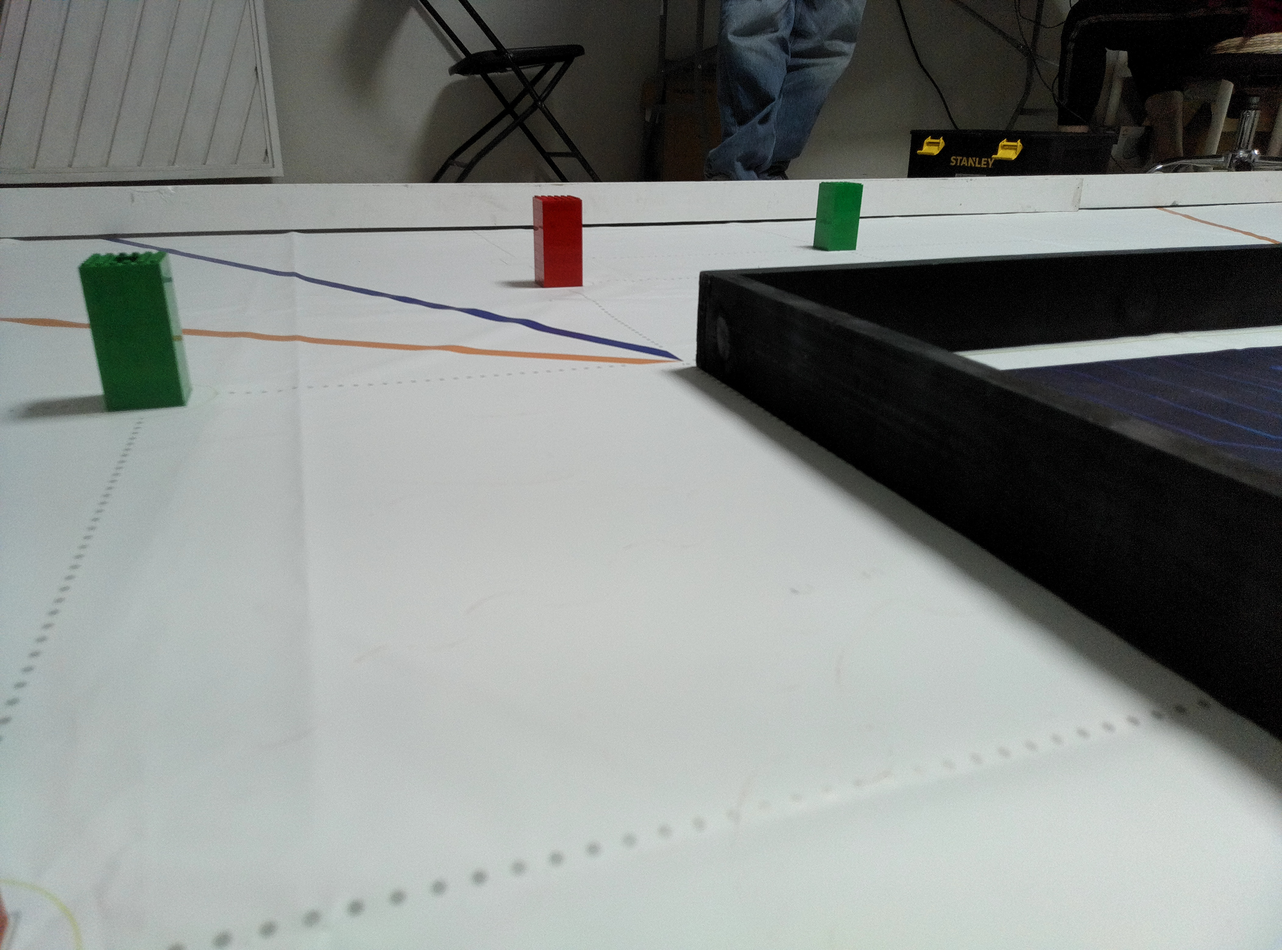greenbox: (74, 252, 197, 415), (812, 179, 865, 253)
redbox: (530, 194, 586, 289)
